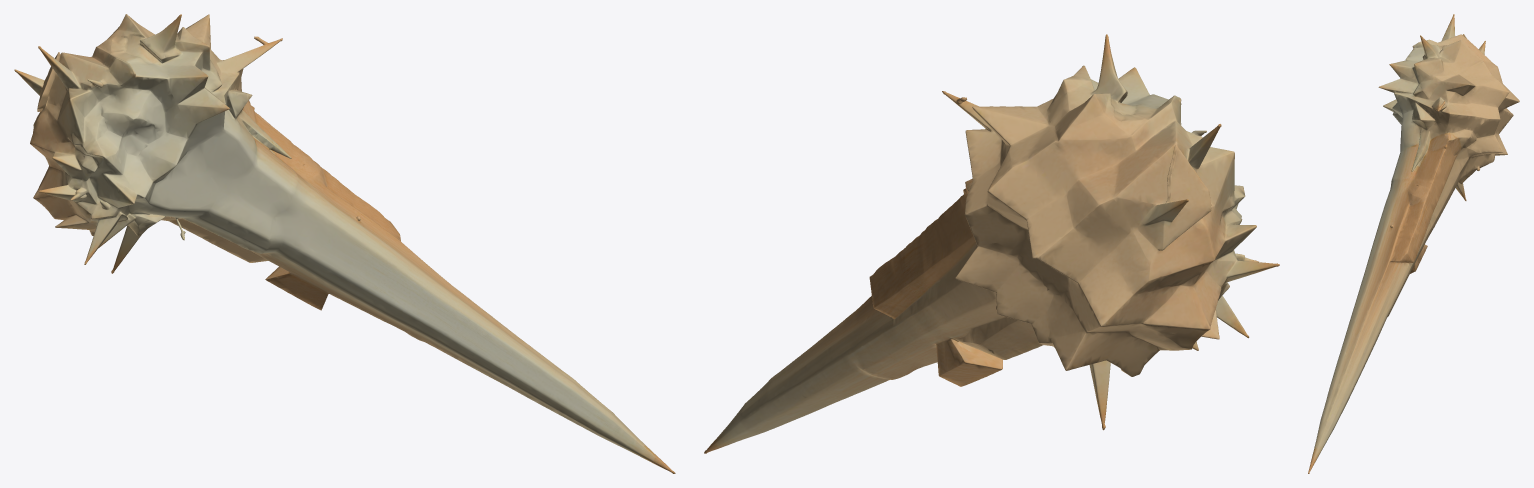
Rendered from light_z.glb.
The picture shows the model from 3 angles, left to right: view 1: azimuth 30°, elevation 25°; view 2: azimuth 150°, elevation 25°; view 3: azimuth 270°, elevation 25°; orthographic projection. The views are drawn at different scales.
Visible parts, largest first — view 1: tripo_node_5125e201-5e68-4c77-8e49-4c1ff5586624; view 2: tripo_node_5125e201-5e68-4c77-8e49-4c1ff5586624; view 3: tripo_node_5125e201-5e68-4c77-8e49-4c1ff5586624.
Boxes of the visible parts, bbox=[...] form: tripo_node_5125e201-5e68-4c77-8e49-4c1ff5586624: bbox=[14, 14, 675, 473]; tripo_node_5125e201-5e68-4c77-8e49-4c1ff5586624: bbox=[704, 34, 1279, 453]; tripo_node_5125e201-5e68-4c77-8e49-4c1ff5586624: bbox=[1308, 14, 1519, 473].
Size of the model in its own units: 0.9797 by 0.8482 by 0.5196.
Materials: 1 (1 with a texture image).
